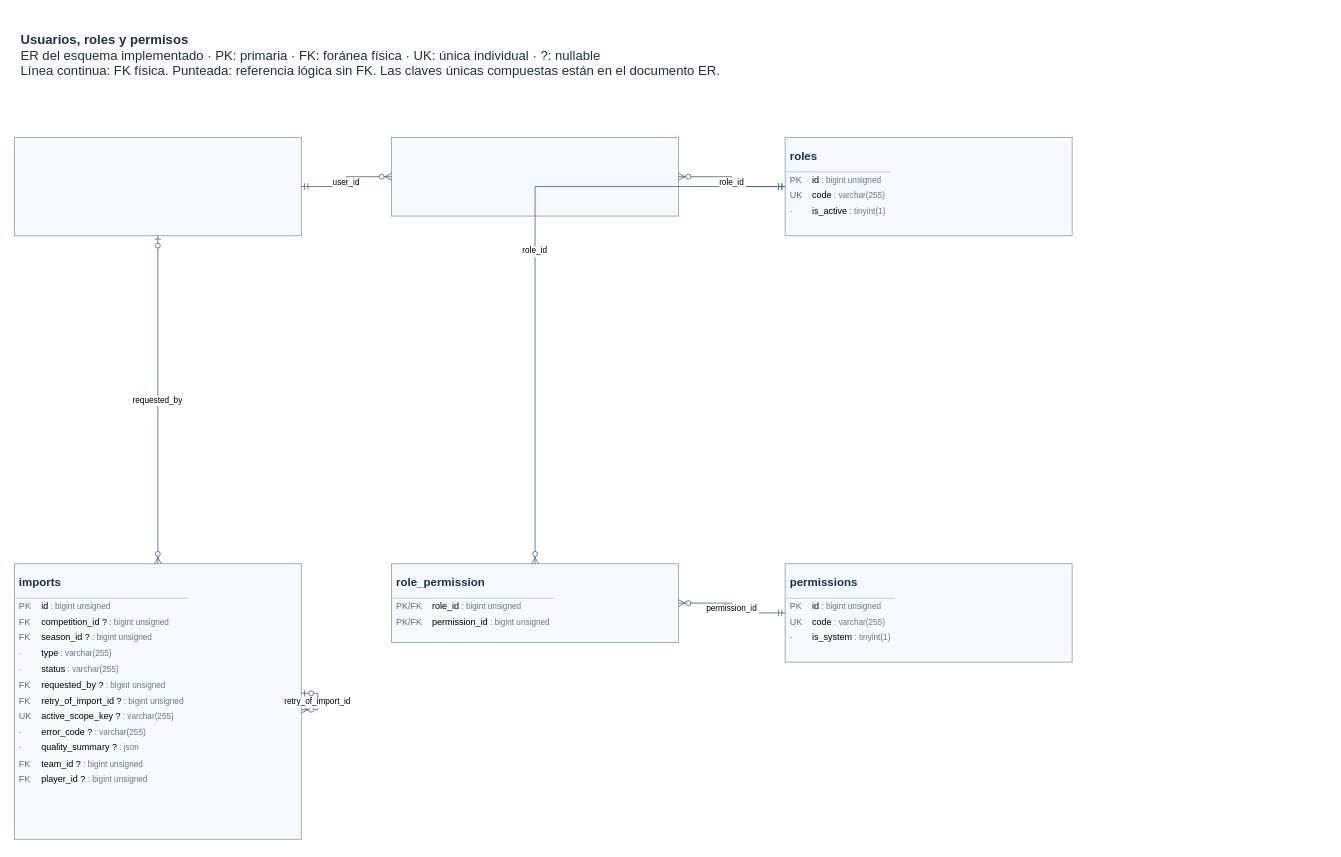
Image size: 1341x857. Some labels were removed from this diagram. The shapes that lost their labels are listed below. From the top down, each one's box as (x1, y1, x2, y2) in pixels, then its label:
(14, 137, 301, 236): users PK id : bigint unsigned UK email : varchar(255) · is_active : tinyint(1)
(391, 137, 679, 216): user_role PK/FK user_id : bigint unsigned PK/FK role_id : bigint unsigned
